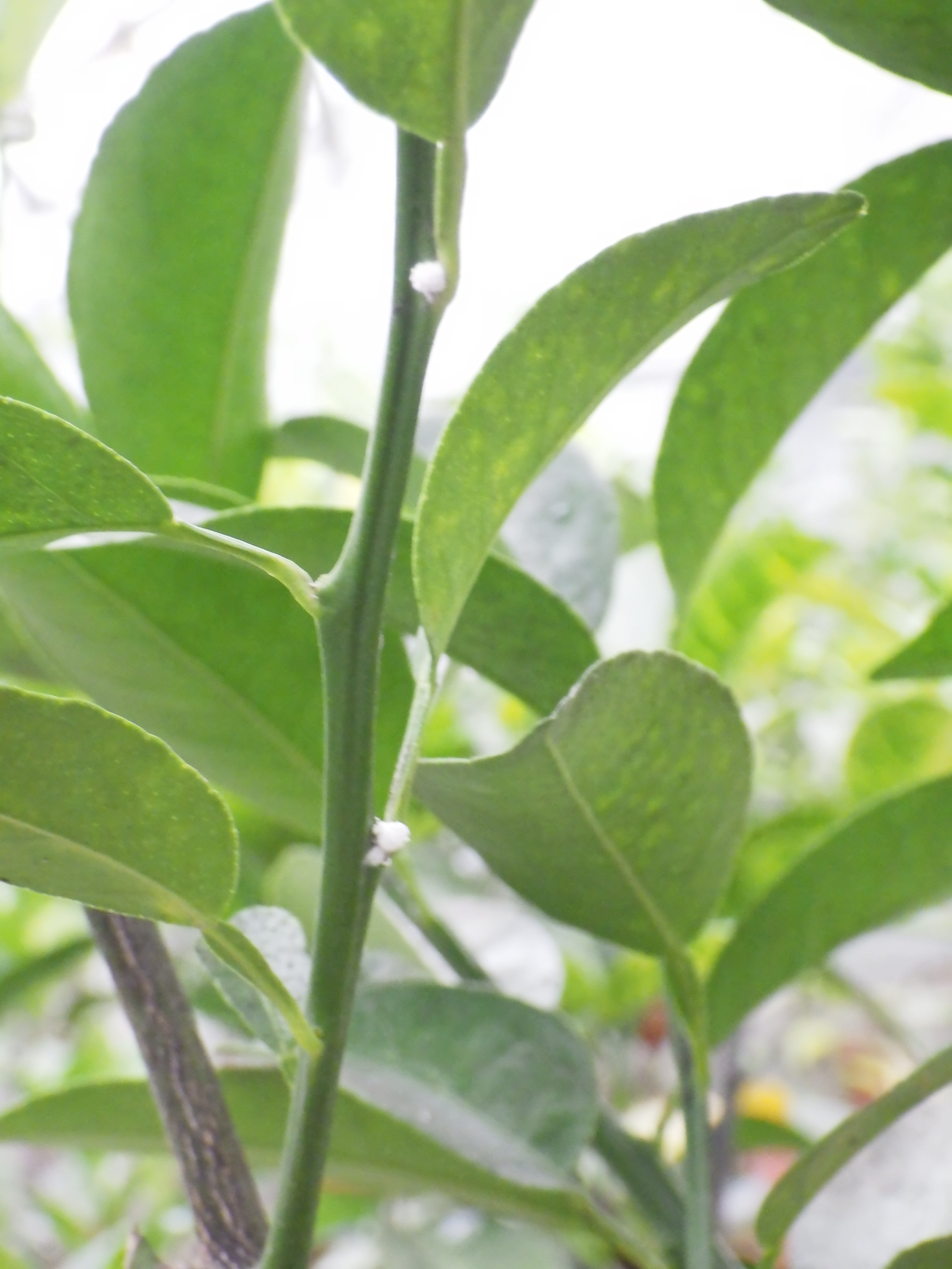Scale_Insect: (364, 819, 410, 867), (409, 260, 447, 304)
